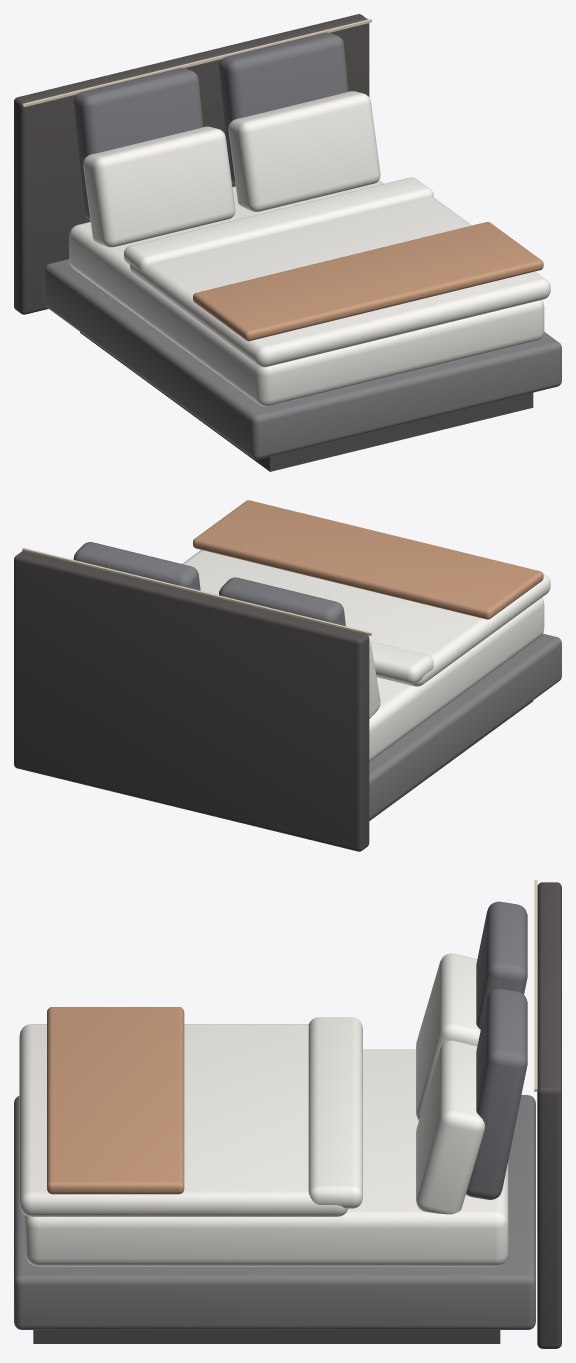
The model's file is it_bed_double.glb.
3 views of the same model, one above another, from view 1: azimuth 30°, elevation 25°; view 2: azimuth 150°, elevation 25°; view 3: azimuth 270°, elevation 25° (orthographic). The views are drawn at different scales.
Visible parts, largest first — view 1: base, duvet, mattress, throw, headboard, pillow0, pillow1, euro0, euro1, fold, plinth, headline; view 2: headboard, throw, duvet, base, mattress, euro1, euro0, fold, headline, pillow0; view 3: base, mattress, duvet, throw, headboard, fold, pillow1, euro1, plinth, pillow0, euro0, headline.
Boxes of the visible parts, <box> form: base: <box>44,259,561,459</box>; duvet: <box>129,196,550,367</box>; mattress: <box>69,180,544,406</box>; throw: <box>193,222,543,341</box>; headboard: <box>14,14,369,314</box>; pillow0: <box>83,126,235,247</box>; pillow1: <box>228,91,380,211</box>; euro0: <box>73,68,203,220</box>; euro1: <box>219,32,348,184</box>; fold: <box>123,177,433,269</box>; plinth: <box>80,332,533,471</box>; headline: <box>22,19,371,107</box>; headboard: <box>14,551,369,851</box>; throw: <box>193,500,543,619</box>; duvet: <box>182,550,550,686</box>; base: <box>369,633,561,819</box>; mattress: <box>369,597,544,761</box>; euro1: <box>73,542,200,590</box>; euro0: <box>219,577,345,626</box>; fold: <box>370,641,433,684</box>; headline: <box>22,547,371,635</box>; pillow0: <box>369,640,380,718</box>; base: <box>14,1095,535,1329</box>; mattress: <box>25,1049,508,1266</box>; duvet: <box>19,1024,347,1216</box>; throw: <box>47,1007,184,1194</box>; headboard: <box>537,882,561,1348</box>; fold: <box>308,1017,362,1208</box>; pillow1: <box>416,1040,484,1214</box>; euro1: <box>466,988,527,1199</box>; plinth: <box>33,1330,500,1343</box>; pillow0: <box>416,953,480,1120</box>; euro0: <box>476,901,527,1029</box>; headline: <box>534,880,537,1091</box>.
Bounding box in the file's own units: 1.8 × 1.16 × 2.
